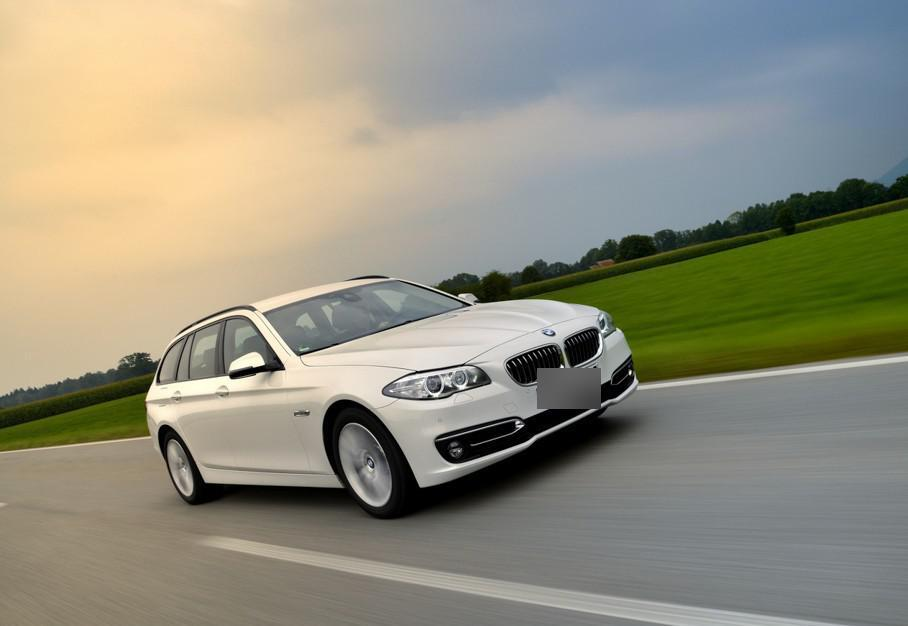Wagon: (144, 274, 642, 521)
